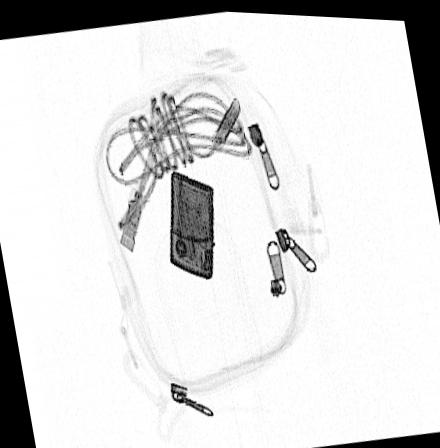Lighter: (168, 168, 213, 278)
